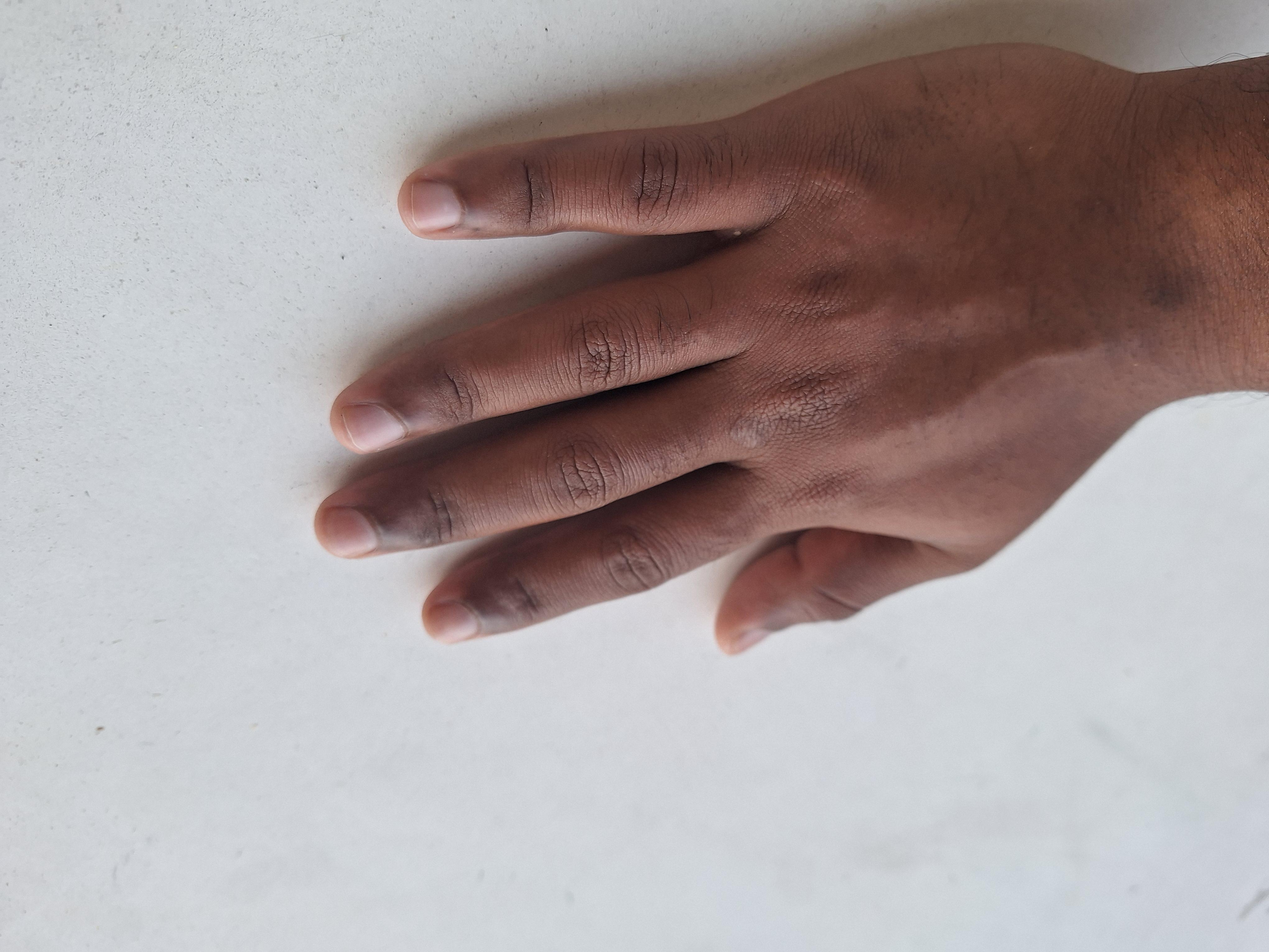Fingernail: (341, 403, 404, 454), (321, 508, 377, 558), (412, 181, 461, 232), (429, 603, 476, 645), (732, 630, 770, 656)
